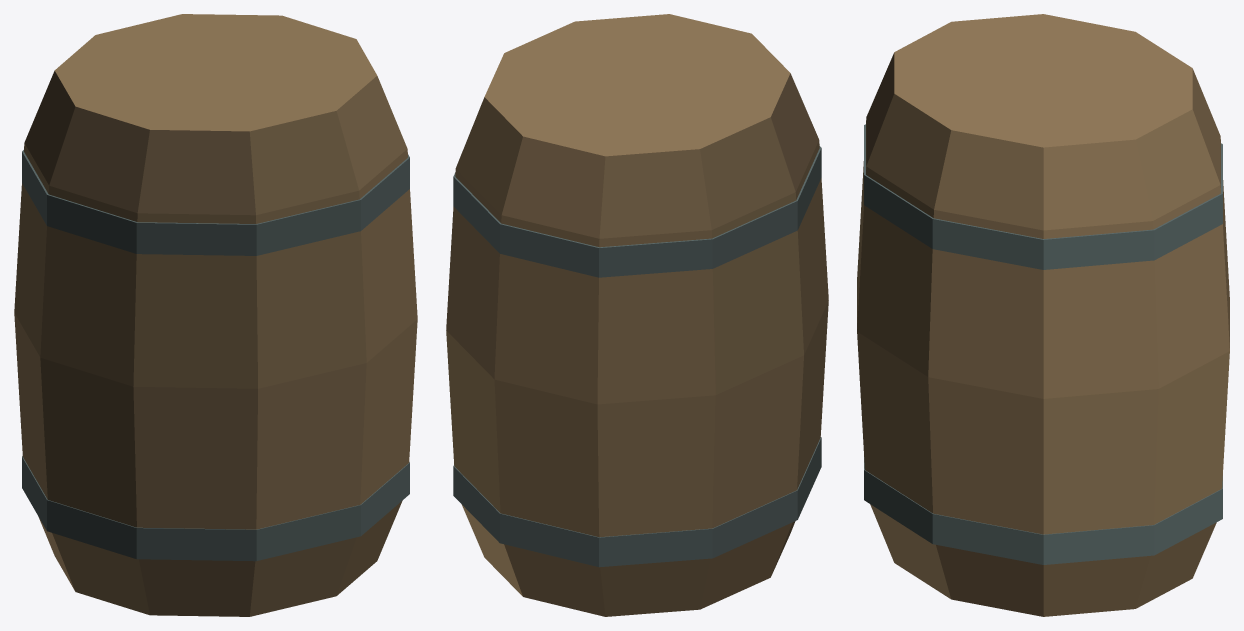
The picture shows the model from 3 angles, left to right: view 1: azimuth 30°, elevation 25°; view 2: azimuth 150°, elevation 25°; view 3: azimuth 270°, elevation 25°; orthographic projection. The views are drawn at different scales.
Visible parts, largest first — view 1: 420cc3e4d45d1c4269938415388047fac5f4dd4669589615fa6fc42a81d6; view 2: 420cc3e4d45d1c4269938415388047fac5f4dd4669589615fa6fc42a81d6; view 3: 420cc3e4d45d1c4269938415388047fac5f4dd4669589615fa6fc42a81d6.
Part boxes in pixels (<box>): 420cc3e4d45d1c4269938415388047fac5f4dd4669589615fa6fc42a81d6: <box>14,14,417,616</box>; 420cc3e4d45d1c4269938415388047fac5f4dd4669589615fa6fc42a81d6: <box>446,14,828,616</box>; 420cc3e4d45d1c4269938415388047fac5f4dd4669589615fa6fc42a81d6: <box>857,14,1229,616</box>.
Bounding box in the file's own units: 0.53 × 0.724 × 0.5041.
Materials: 1 (1 with a texture image).
